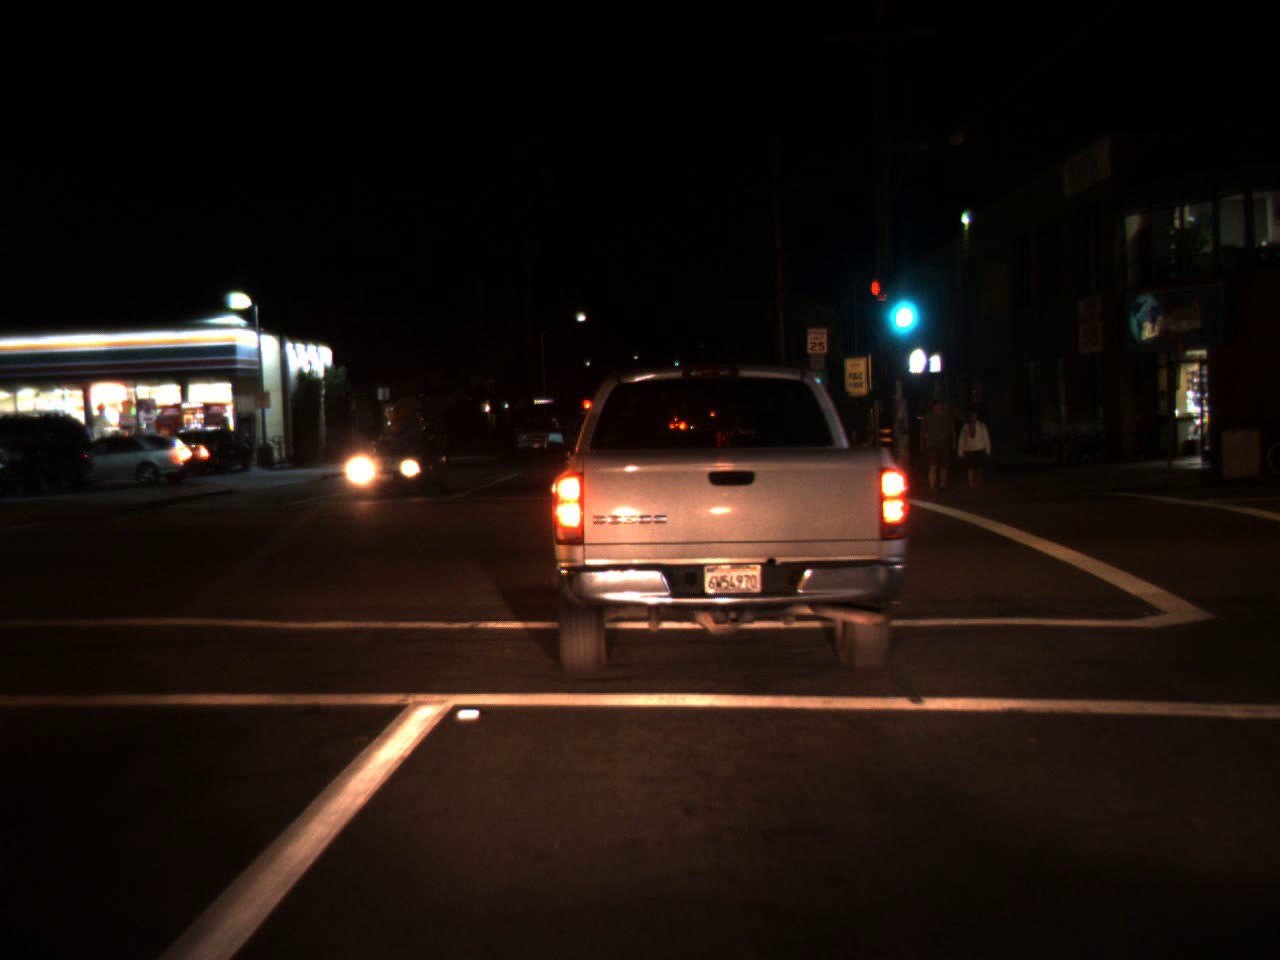go: (878, 264, 923, 342)
stop: (582, 400, 589, 418)
